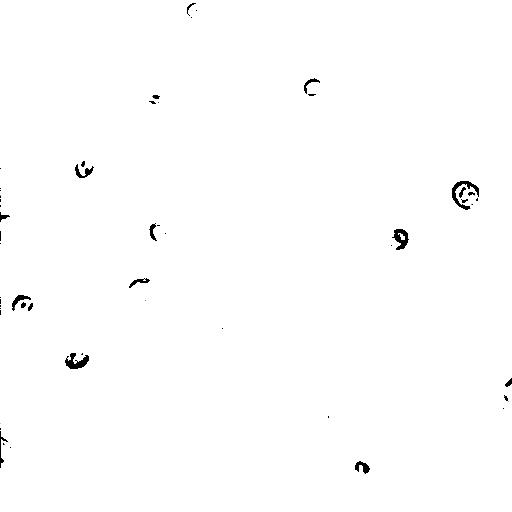micro-algae: (335, 1, 401, 67), (1, 279, 44, 329), (213, 365, 255, 409), (451, 180, 481, 212), (126, 276, 156, 303), (9, 293, 35, 322), (385, 227, 411, 252), (486, 391, 511, 415), (64, 347, 89, 371), (73, 156, 95, 179), (0, 213, 19, 235), (149, 221, 168, 241), (302, 77, 321, 96), (1, 435, 13, 465), (187, 1, 207, 18), (353, 458, 369, 477), (503, 401, 511, 434)
